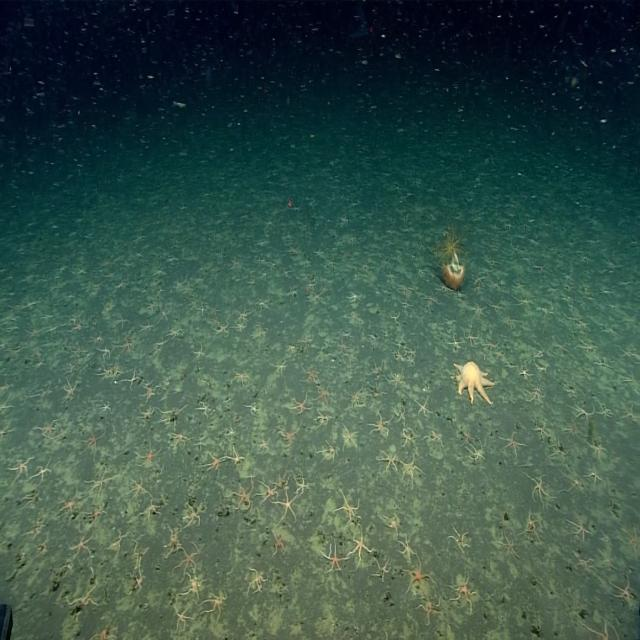brittle-stars: (406, 559, 433, 593), (449, 574, 474, 610), (349, 528, 371, 568), (322, 539, 347, 573), (230, 476, 253, 512), (610, 575, 635, 608), (87, 469, 115, 495), (277, 490, 299, 523), (418, 590, 443, 619), (177, 543, 198, 577), (526, 473, 548, 504), (336, 492, 360, 520), (448, 524, 470, 554), (204, 590, 228, 617), (567, 515, 590, 543), (500, 431, 522, 460), (525, 509, 543, 542), (136, 443, 160, 467), (70, 534, 92, 560), (248, 566, 268, 594), (573, 400, 596, 424), (562, 470, 584, 495), (401, 455, 420, 483), (256, 479, 278, 503), (126, 476, 146, 502), (165, 524, 183, 552), (183, 574, 204, 598), (497, 533, 518, 557), (142, 498, 162, 522), (370, 412, 390, 436), (621, 527, 638, 555), (37, 419, 59, 440), (291, 393, 312, 415), (32, 459, 52, 482), (378, 450, 398, 473), (184, 503, 202, 528), (373, 556, 391, 581), (203, 451, 224, 472), (133, 541, 148, 569), (175, 604, 191, 630), (61, 490, 78, 514), (341, 425, 358, 449), (468, 439, 484, 464), (320, 441, 338, 463), (85, 430, 102, 453), (399, 537, 416, 560), (131, 568, 146, 594), (10, 458, 30, 477), (272, 530, 286, 557), (292, 474, 309, 496), (621, 404, 640, 423), (89, 504, 107, 524), (171, 431, 189, 451), (278, 426, 294, 448), (315, 384, 332, 404), (62, 379, 78, 400), (125, 369, 141, 390), (576, 555, 594, 573), (227, 447, 245, 465), (232, 370, 251, 387), (588, 466, 604, 486), (415, 396, 431, 416), (142, 382, 158, 402), (388, 369, 404, 389), (160, 409, 178, 426), (590, 440, 606, 459), (533, 421, 549, 440), (195, 401, 214, 417), (384, 512, 399, 532), (597, 401, 612, 421), (272, 358, 288, 376), (118, 337, 133, 356), (349, 388, 363, 408), (426, 430, 443, 446), (302, 366, 318, 383), (580, 339, 598, 354), (236, 304, 251, 322), (526, 389, 545, 403), (214, 320, 230, 336), (139, 406, 156, 421), (465, 329, 480, 346), (472, 301, 487, 318), (192, 342, 204, 363), (158, 305, 172, 323), (95, 364, 112, 378), (518, 364, 532, 381), (514, 295, 531, 309), (28, 322, 40, 341), (532, 260, 548, 274), (487, 299, 503, 313), (347, 290, 363, 304), (449, 333, 462, 350), (97, 346, 112, 360), (484, 338, 499, 352), (167, 328, 184, 340), (309, 290, 323, 304), (139, 321, 154, 334), (152, 266, 166, 279), (406, 343, 418, 358), (100, 399, 112, 413), (234, 321, 246, 334), (350, 310, 360, 325), (210, 304, 221, 315), (562, 271, 572, 282)
